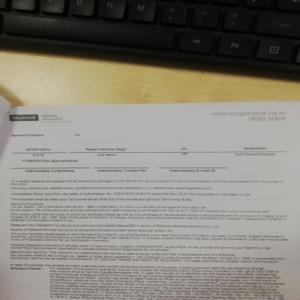text: (11, 175, 291, 266), (49, 268, 294, 300)
